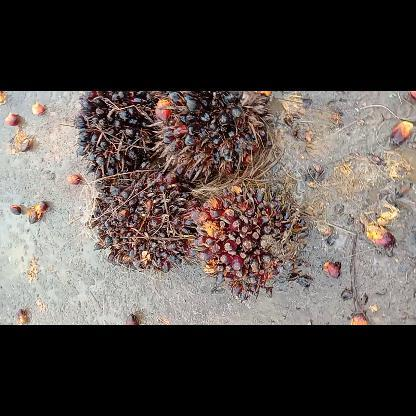TBS abnormal: (154, 90, 300, 182), (72, 90, 172, 182)
TBS masak: (192, 181, 312, 305), (85, 160, 198, 276)
